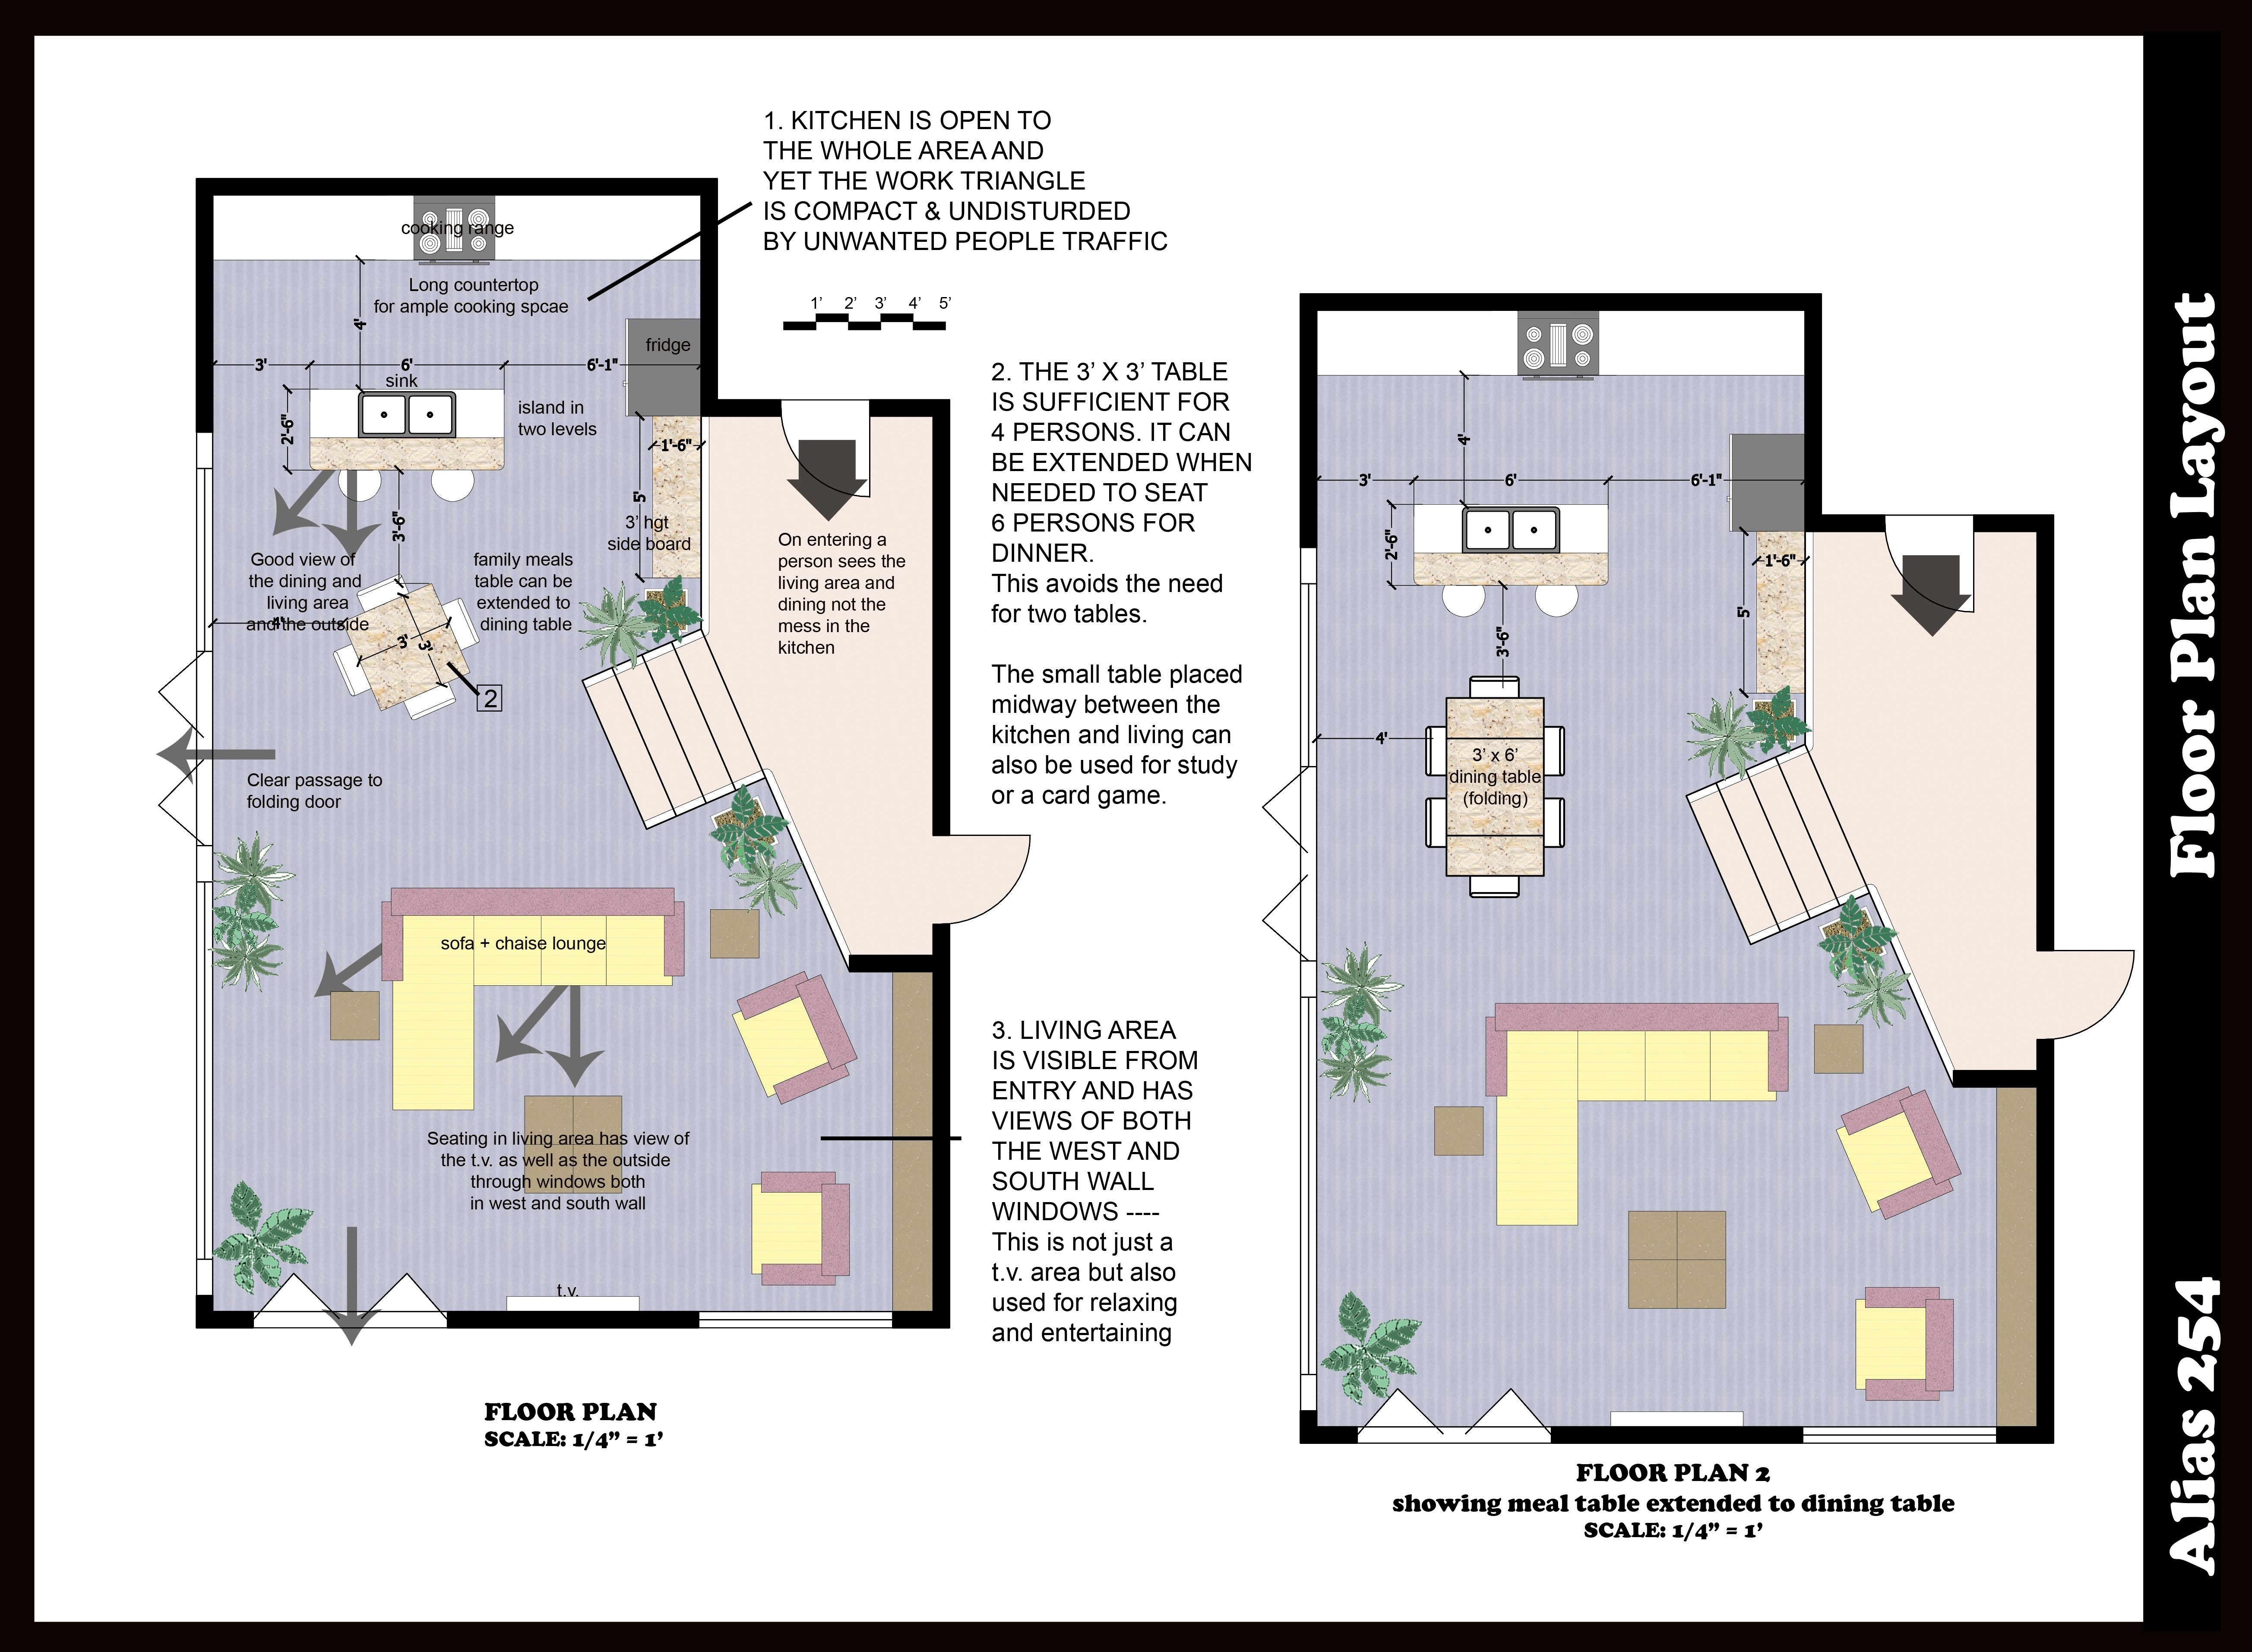door: (2044, 942, 2138, 1040), (953, 832, 1035, 925)
